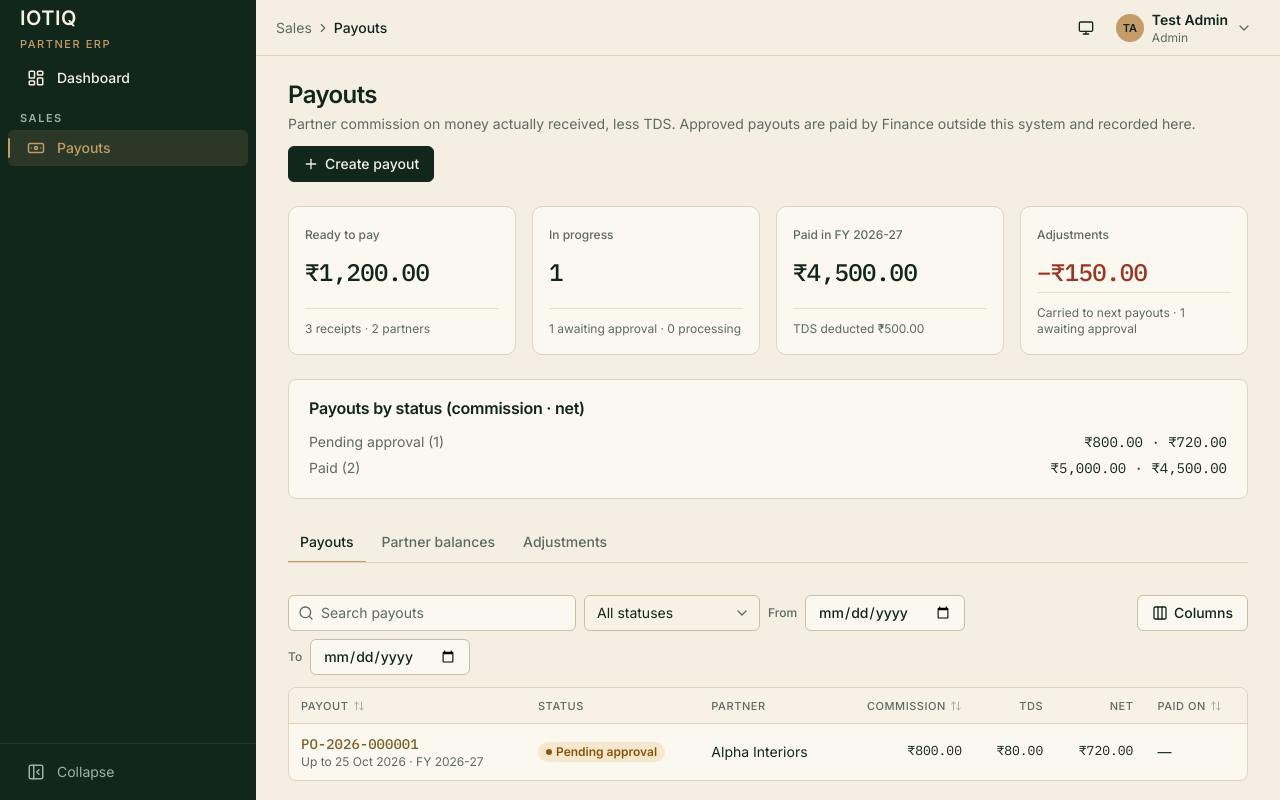
receipt counts and repeated messages › says "1 receipt" and shows a TDS message once when it is also a blocker
Step 1. Click the button "Create payout" → x=361, y=164, box left=288, top=146, right=434, bottom=182
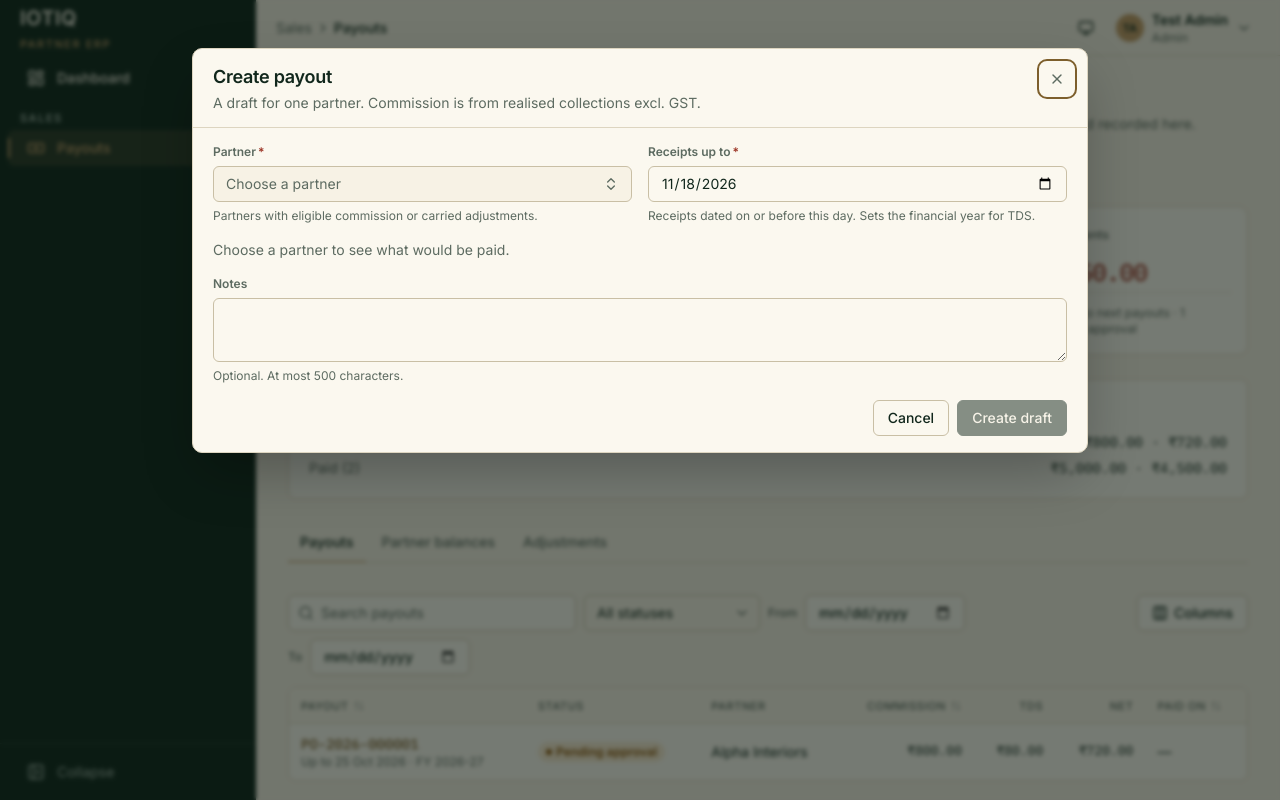
Step 2. Click the dropdown labelled "Choose a partner" → x=283, y=184, box left=213, top=166, right=632, bottom=202
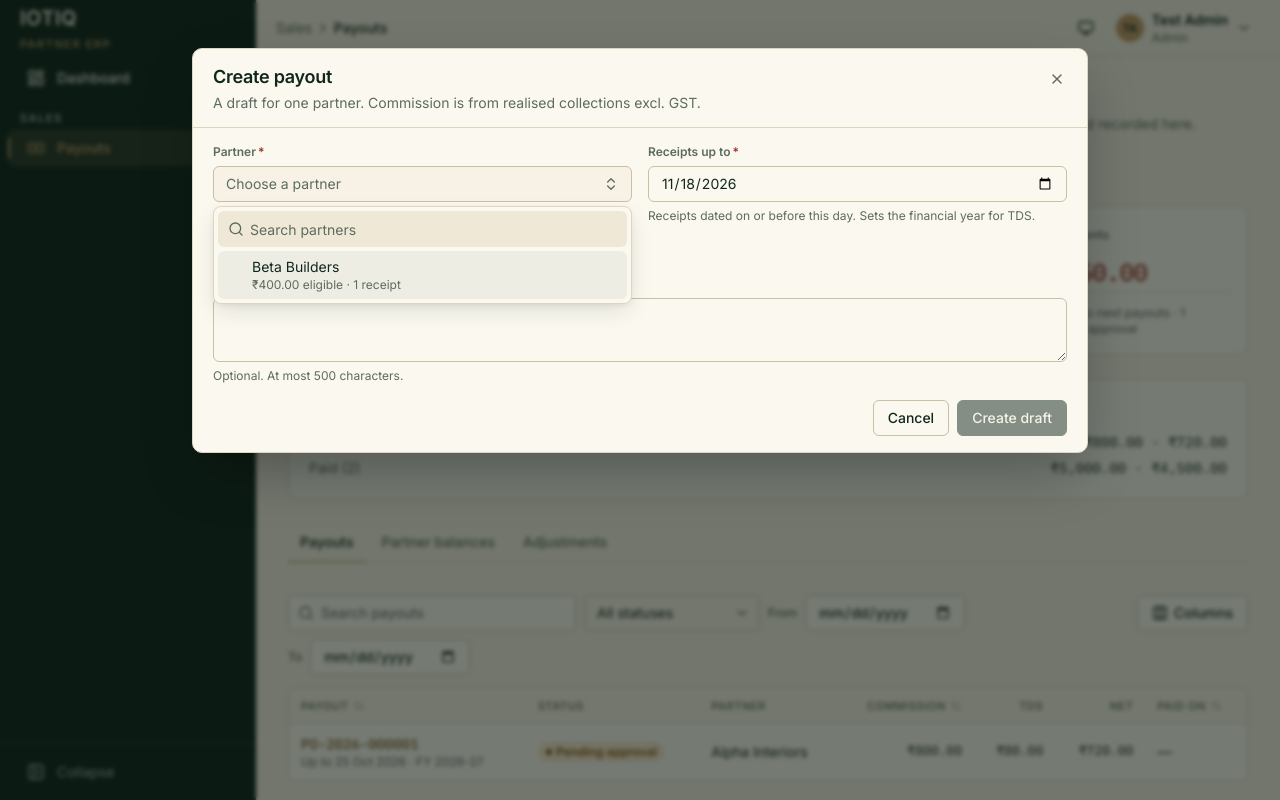
Expected: the option "Beta Builders ₹400.00 eligible · 1 receipt" is shown
Step 3. Click the option "Beta Builders ₹400.00 eligible · 1 receipt" → x=296, y=266, box left=218, top=251, right=627, bottom=299
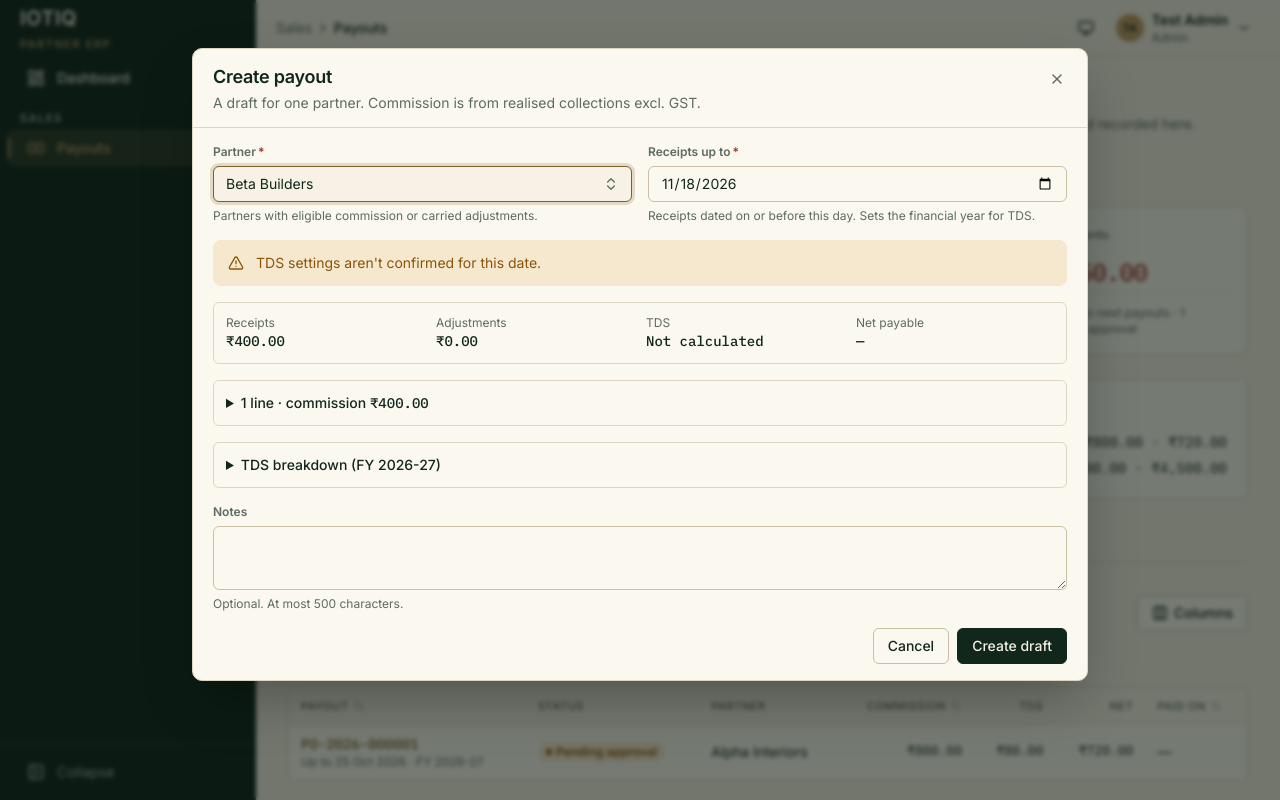
Expected: the text "TDS settings aren't confirmed for this date." is shown once, left=256, top=254, right=541, bottom=271
